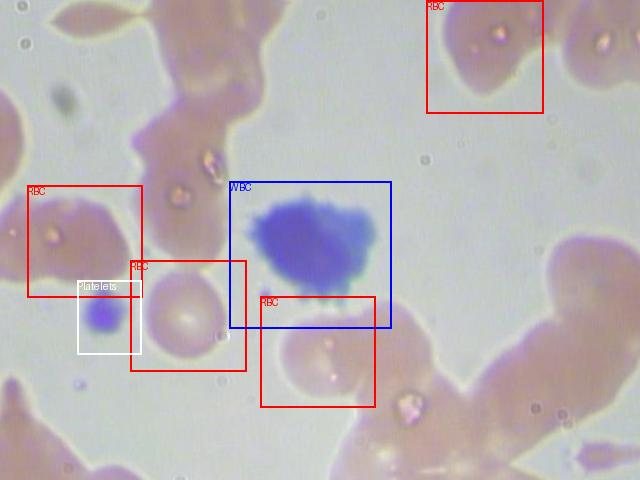Platelets: (77, 280, 141, 354)
RBC: (426, 0, 543, 113), (27, 185, 142, 297), (130, 260, 246, 371), (260, 296, 375, 407)
WBC: (229, 181, 391, 328)
